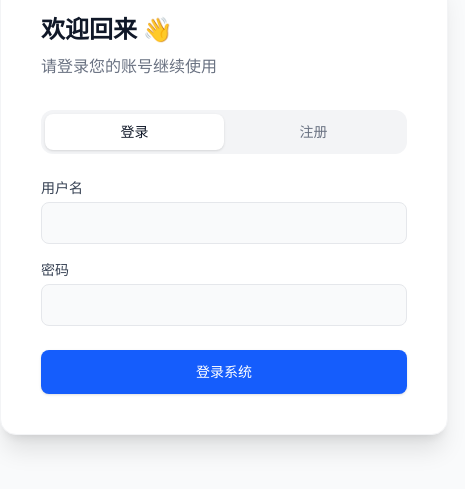
Test: LoginPage › shows zod validation messages for invalid input
The width and height of the screenshot is (465, 489).
Type "alice" into the field labelled "用户名" at (224, 223), box [41, 202, 407, 244]
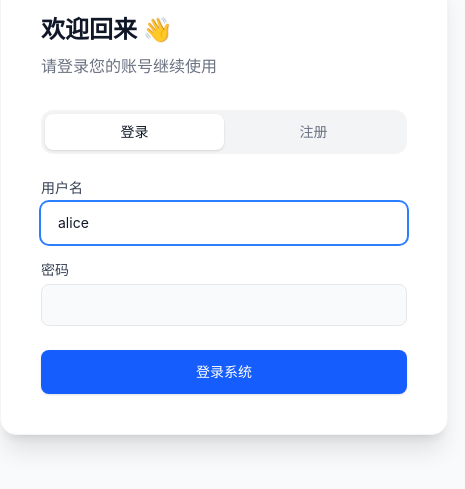
Type "123" into the password field labelled "密码" at (224, 305), box [41, 284, 407, 326]
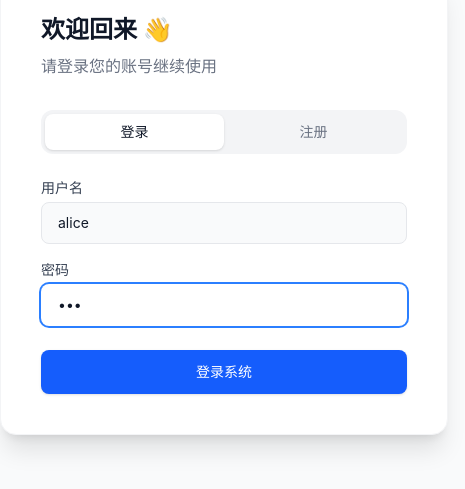
Click the button "登录系统" at (224, 372), box [41, 350, 407, 394]
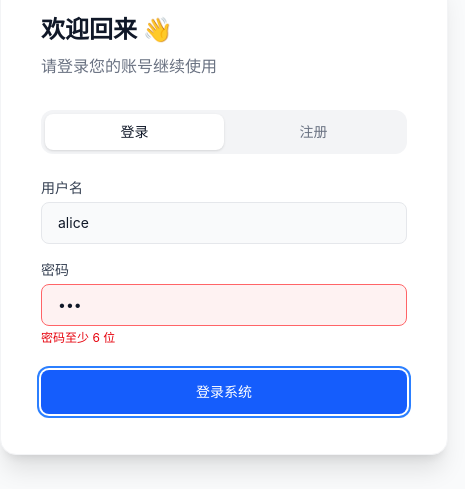
Expected: the text "密码至少 6 位" is shown, [41, 330, 115, 345]
